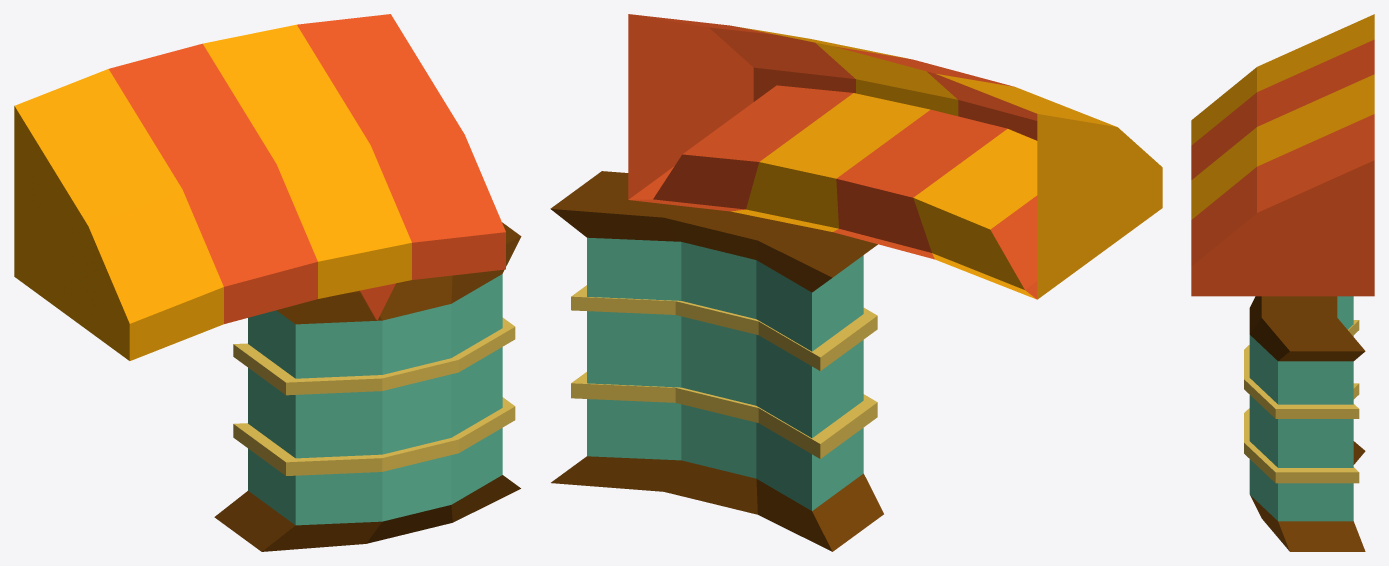
File: PredioGenerico1MarromLOD2.fbx
The picture shows the model from 3 angles, left to right: view 1: azimuth 30°, elevation 25°; view 2: azimuth 150°, elevation 25°; view 3: azimuth 270°, elevation 25°; orthographic projection. The views are drawn at different scales.
Visible parts, largest first — view 1: Toldo.003, Janela.002; view 2: Toldo.003, Janela.002; view 3: Toldo.003, Janela.002.
Boxes of the visible parts, x1=… form: Toldo.003: x1=14, y1=14, x2=505, y2=360; Janela.002: x1=214, y1=222, x2=521, y2=551; Toldo.003: x1=628, y1=14, x2=1162, y2=299; Janela.002: x1=550, y1=171, x2=883, y2=551; Toldo.003: x1=1191, y1=14, x2=1374, y2=296; Janela.002: x1=1244, y1=296, x2=1365, y2=551.
Size of what is drawn, in the model's own units: 358 by 355 by 157.
Materials: 1 (1 with a texture image).
